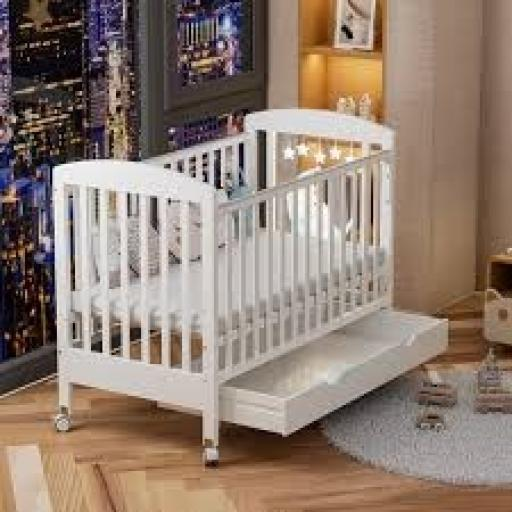crib: (55, 110, 448, 464)
